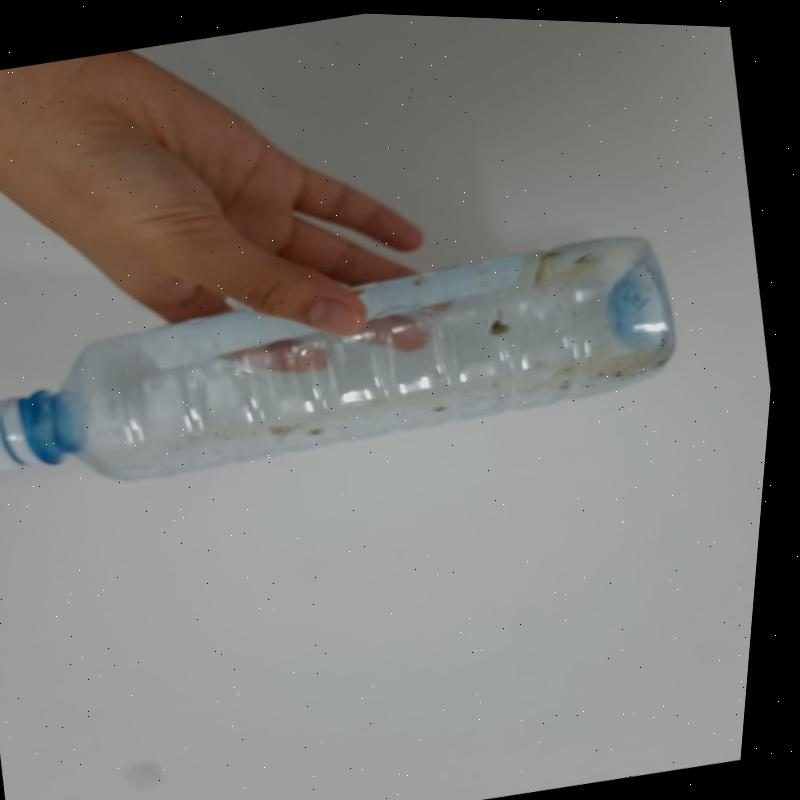botella: (0, 203, 702, 529)
